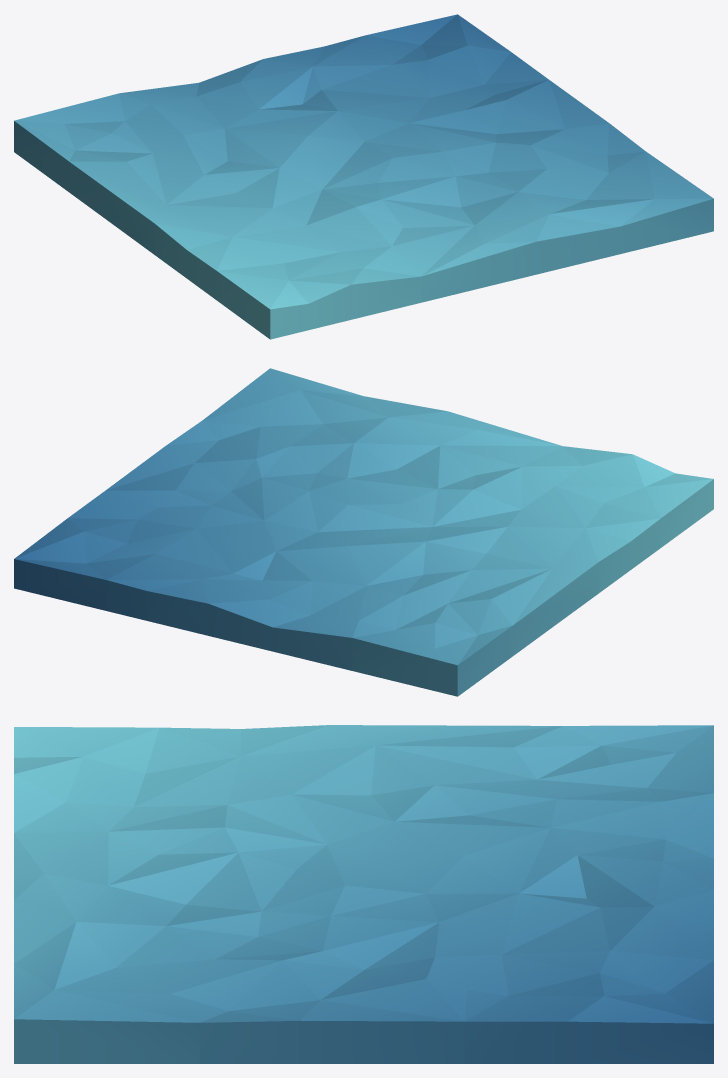
Rendered from water-location-sea-monster-attack.glb.
3 renders of one model, top to bottom at view 1: azimuth 30°, elevation 25°; view 2: azimuth 150°, elevation 25°; view 3: azimuth 270°, elevation 25°, orthographic. The views are drawn at different scales.
Parts seen in each view (by area): view 1: water location sea monster attack; view 2: water location sea monster attack; view 3: water location sea monster attack.
Part boxes in pixels (x1,y1,x2,y2): water location sea monster attack: [14, 14, 713, 339]; water location sea monster attack: [14, 368, 713, 696]; water location sea monster attack: [14, 725, 713, 1063].
Bounding box in the file's own units: 44 × 3.44 × 44.
Materials: 1 (1 with a texture image).
